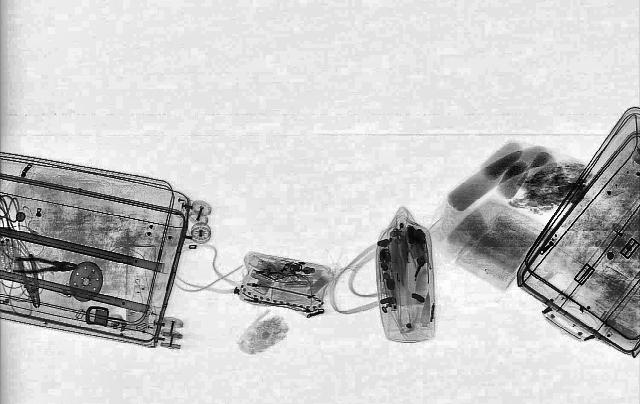Pliers: (18, 254, 44, 307), (12, 258, 76, 272)
